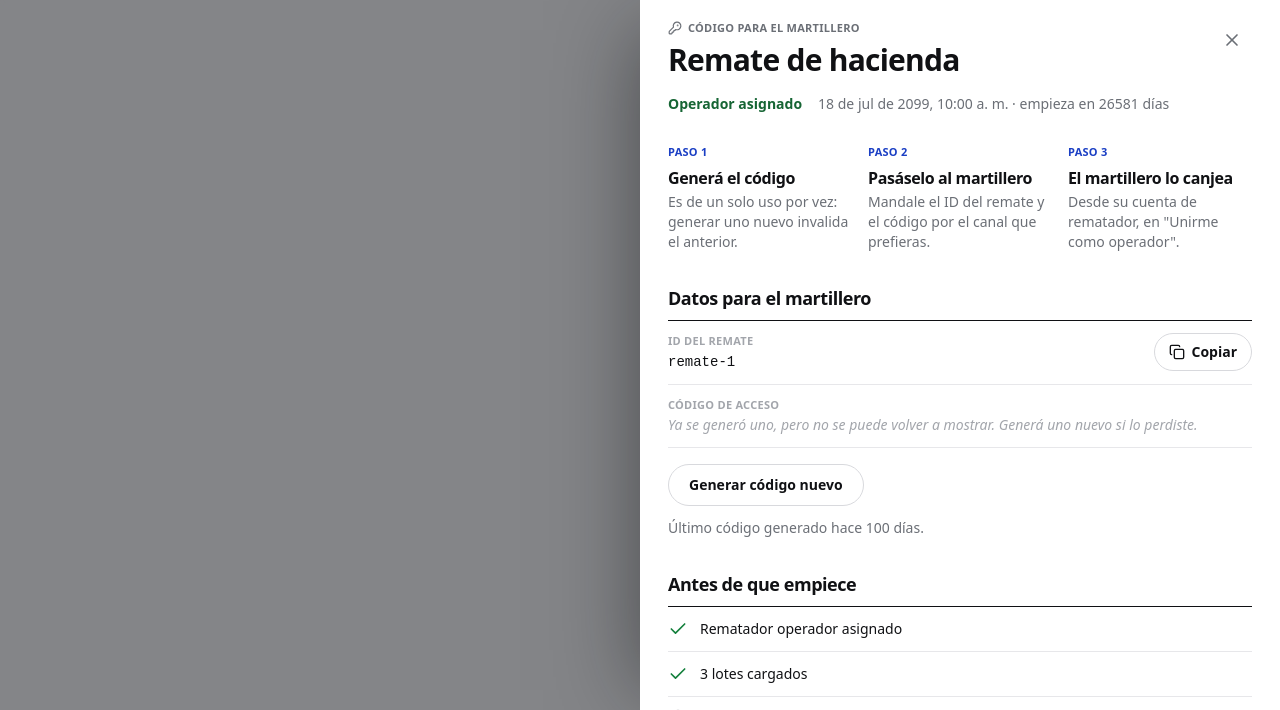
OperatorCodeDrawer › con operador asignado pide confirmación antes de regenerar
The image size is (1280, 710).
Click the button "Generar código nuevo" at coordinates (766, 485), box [668, 464, 864, 506]
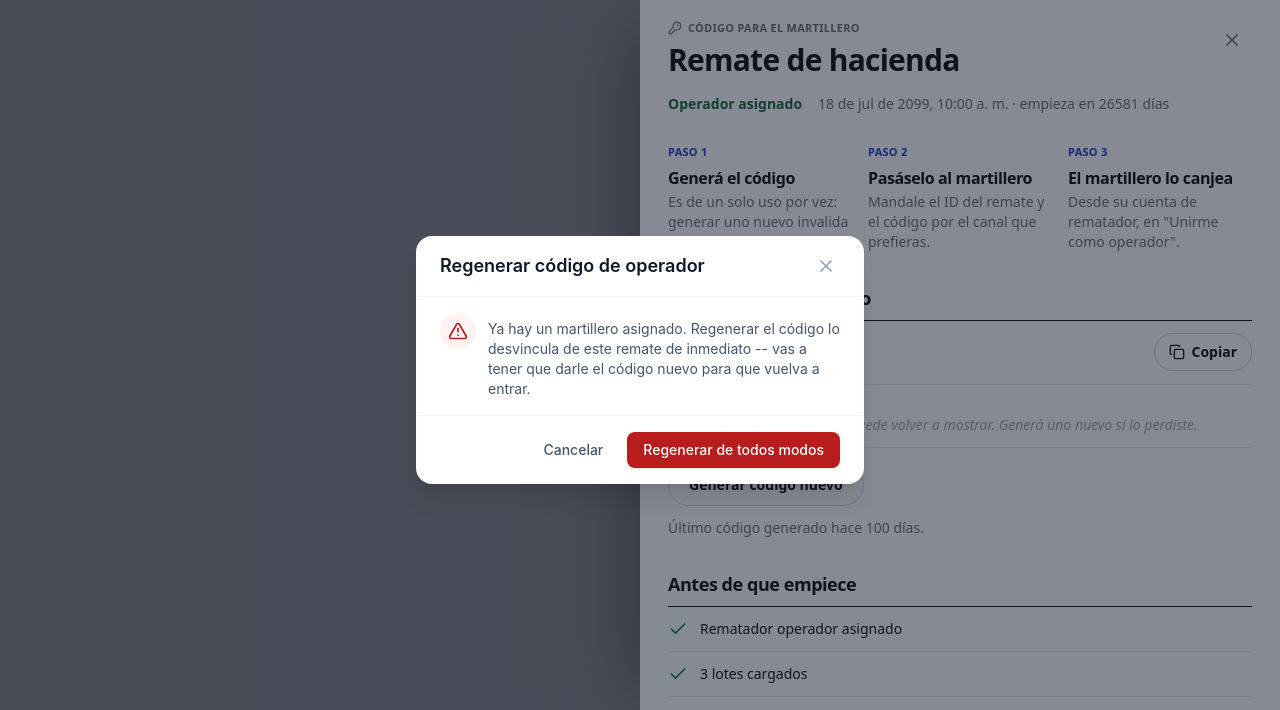
expect the heading "Regenerar código de operador" is shown: met, box [440, 252, 705, 280]
